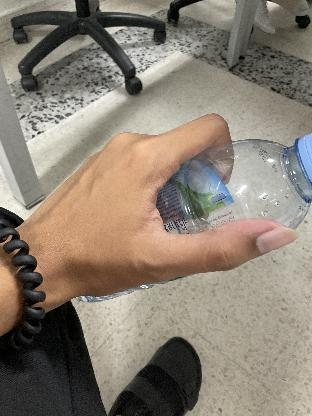Plastic Bottle: (152, 116, 308, 254)
